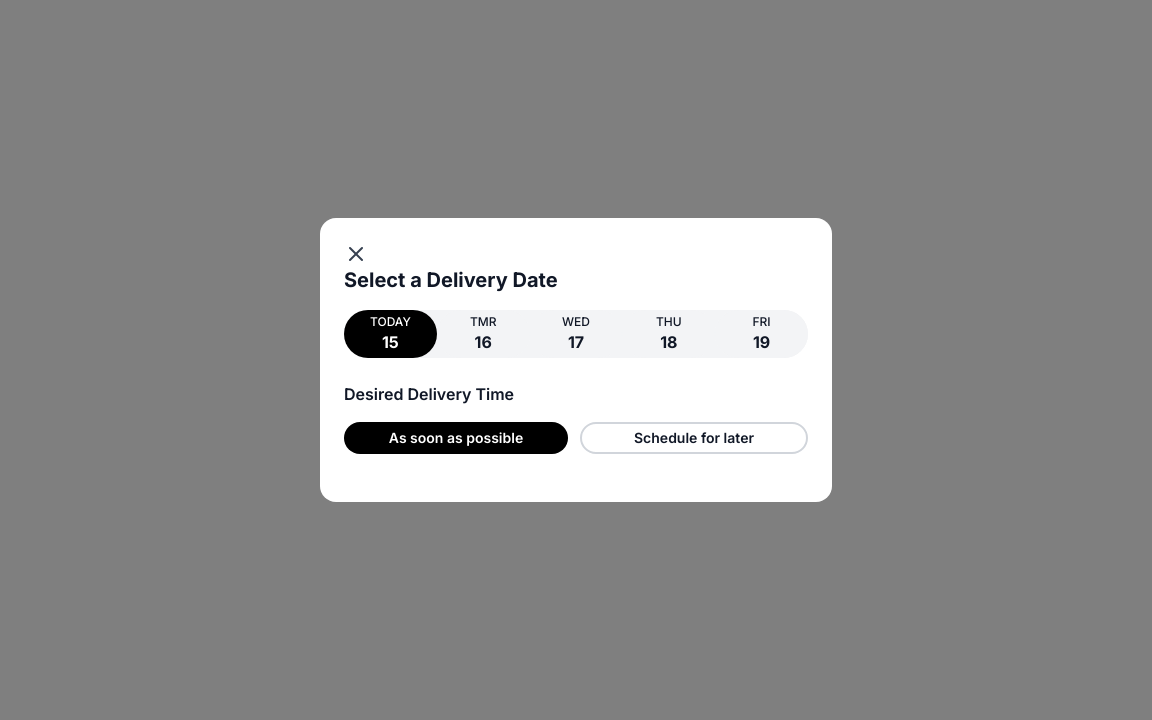
Test: ScheduleDeliveryModal › should display time slots when "Schedule for later" is selected for today
The image size is (1152, 720).
# Click "Schedule for later" button
Click the button "Schedule for later". click: (694, 438)
box: [580,422,808,454]
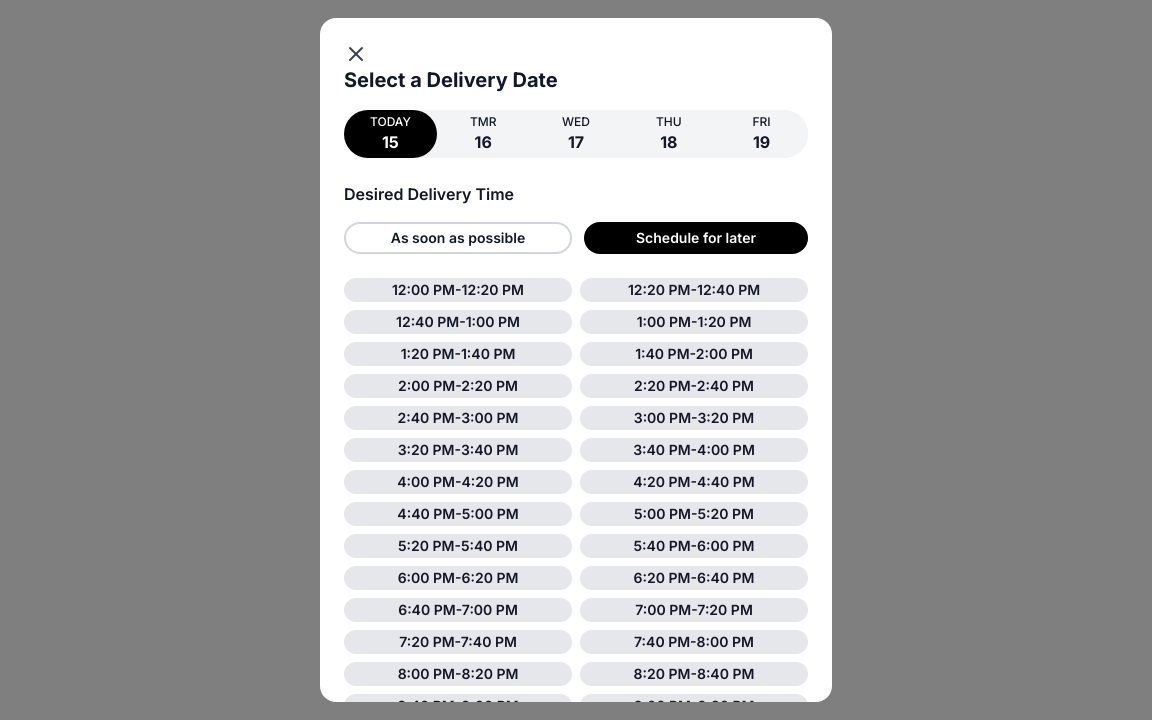
Expected: the button "12:00 PM-12:20 PM" is shown, [344,278,572,302]
